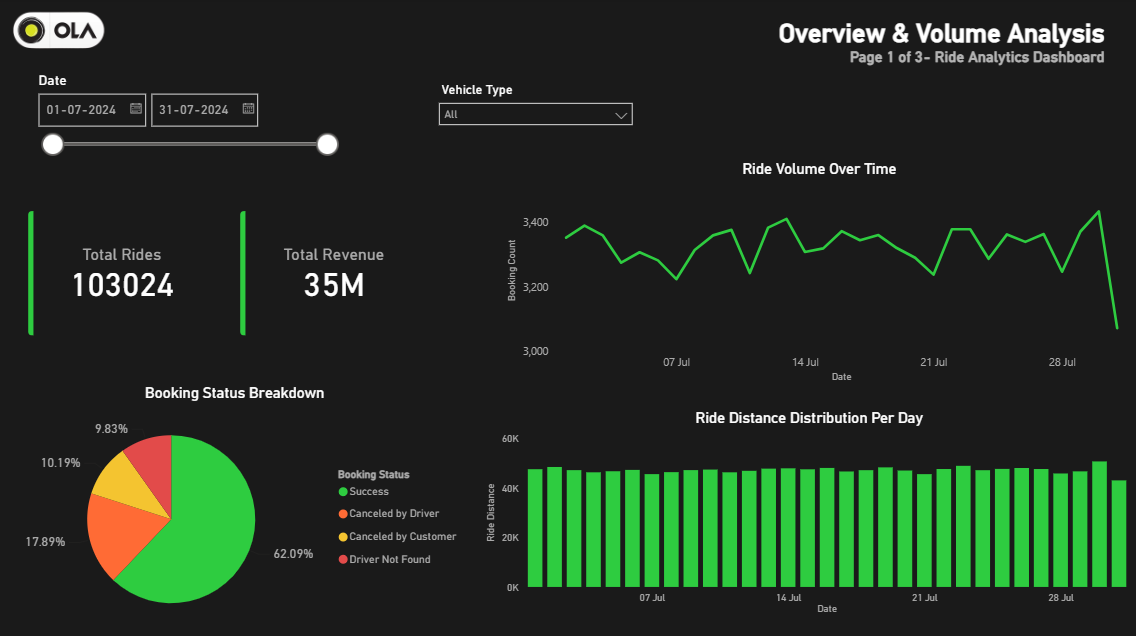

The page's visual inventory and layout, read from the dashboard file:
{"tool":"powerbi","page":{"name":"Overview & Volume Analysis","canvas":[1280,720],"ordinal":0},"visuals":[{"type":"image","box":[13.8,13.8,105,48.8],"z":0},{"type":"textbox","box":[795.5,18,452.4,91.2],"z":1000},{"type":"lineChart","title":"Ride Volume Over Time","fields":{"Y":["CountNonNull(July.Booking_ID)"],"Category":["July.Date"]},"box":[565.5,182.5,712,254.5],"z":2000},{"type":"pieChart","title":"Booking Status Breakdown","fields":{"Y":["CountNonNull(July.Booking_Status)"],"Category":["July.Booking_Status"]},"box":[0,434.4,528.2,285.3],"z":3000},{"type":"cardVisual","fields":{"Data":["CountNonNull(July.Booking_ID)"]},"box":[14.1,222.3,245.5,174.8],"z":4000},{"type":"columnChart","title":"Ride Distance Distribution Per Day","fields":{"Y":["Sum(July.Ride_Distance)"],"Category":["July.Date"]},"box":[542.3,462.7,736.4,235.2],"z":5000},{"type":"slicer","fields":{"Values":["July.Date"]},"box":[30.8,77.1,358.6,158.1],"z":6000},{"type":"cardVisual","fields":{"Data":["Sum(July.Booking_Value)"]},"box":[253.2,222.3,245.5,174.8],"z":7000},{"type":"slicer","fields":{"Values":["July.Vehicle_Type"]},"box":[483.2,90,237.8,79.7],"z":8000}]}

Visuals, with their boxes in screenshot pixels (x1, y1, x2, y2), scaled from the page's 1280x720 canvas onto the 1136x636 screenshot:
image: BBox(12, 12, 105, 55)
textbox: BBox(706, 16, 1108, 96)
"Ride Volume Over Time" lineChart: BBox(502, 161, 1134, 386)
"Booking Status Breakdown" pieChart: BBox(0, 384, 469, 635)
cardVisual - CountNonNull(July.Booking_ID): BBox(13, 196, 230, 351)
"Ride Distance Distribution Per Day" columnChart: BBox(481, 409, 1135, 616)
slicer - July.Date: BBox(27, 68, 346, 208)
cardVisual - Sum(July.Booking_Value): BBox(225, 196, 443, 351)
slicer - July.Vehicle_Type: BBox(429, 80, 640, 150)
